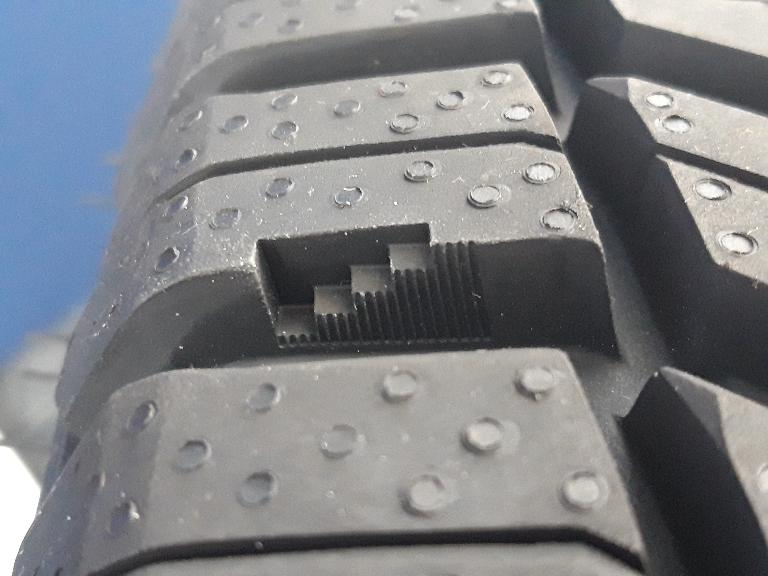temoin:100: (244, 216, 501, 355)
